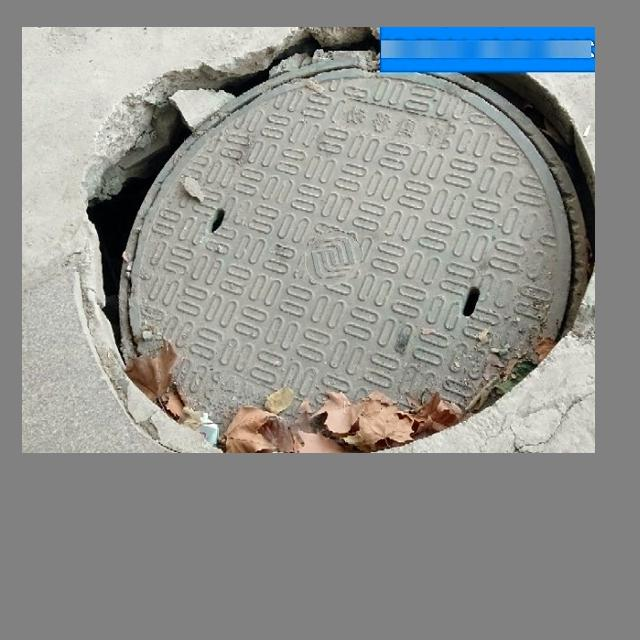uncovered: (119, 50, 587, 450)
